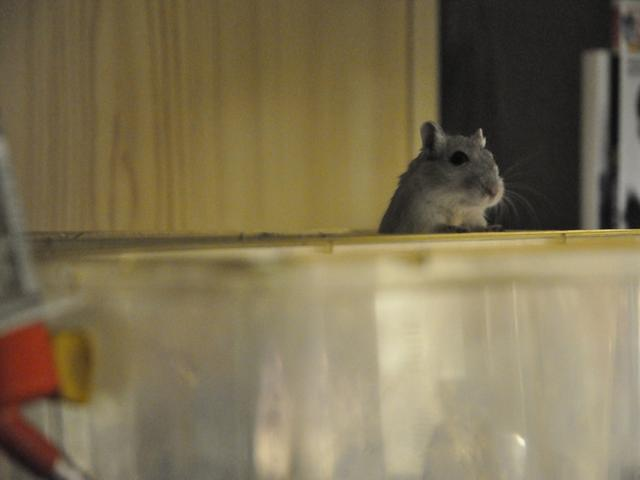mouse: (330, 99, 532, 276)
